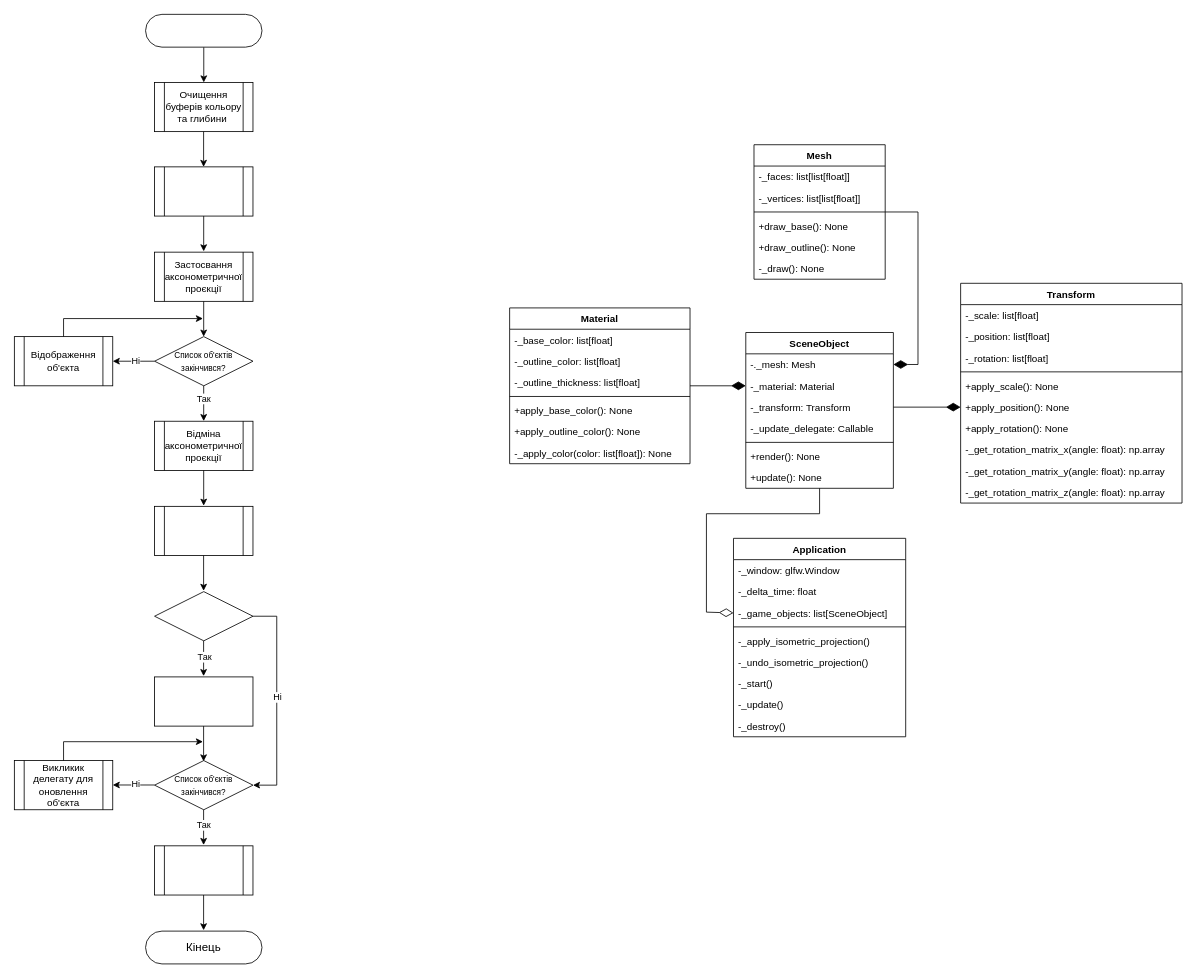
Image size: 1196x978. Some labels were removed from this diagram. Each missing label, with the centre of its shape:
delta_time < MIN_DELTA_TIME ?: the point at 203,616
delta_time = MIN_DELTA_TIME: the point at 203,701
Встановлення кольору сцени: the point at 203,191
Обмін місяцми буферів glfw: the point at 203,870
Обчислення delta_time: the point at 203,531
Початок: the point at 203,30
